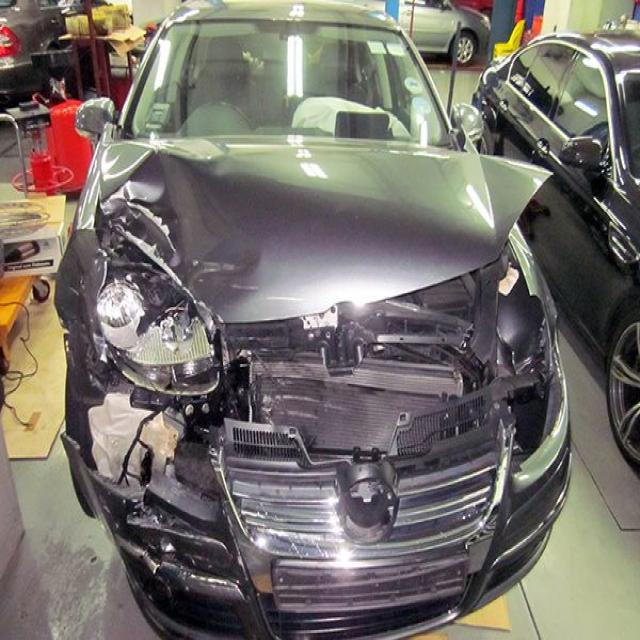crush: (55, 138, 571, 598)
